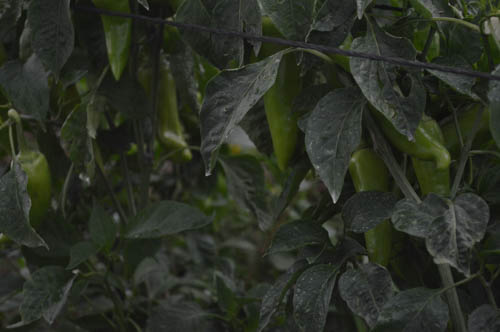ChiliPepper: (346, 56, 452, 164), (253, 16, 303, 173), (135, 59, 197, 159), (344, 150, 392, 270), (404, 111, 454, 203), (85, 2, 136, 81), (13, 150, 53, 224)
